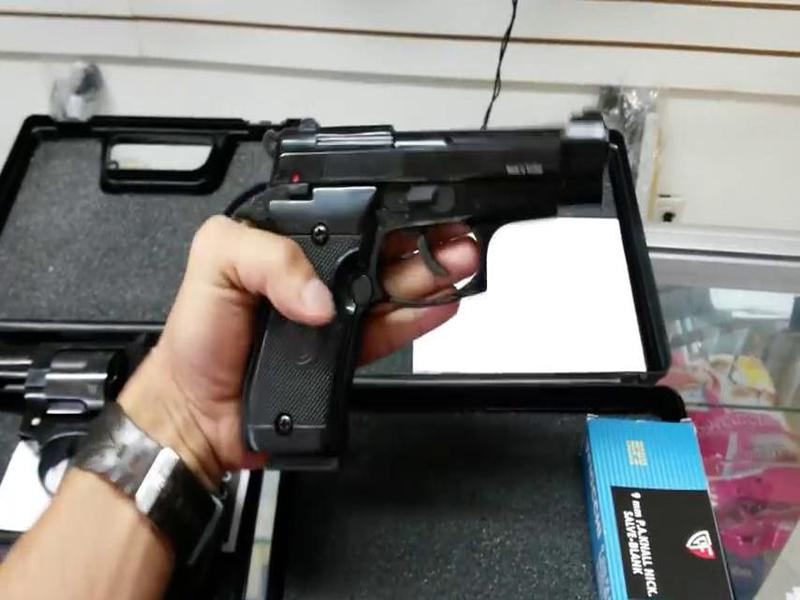Pistola: (226, 94, 671, 469)
